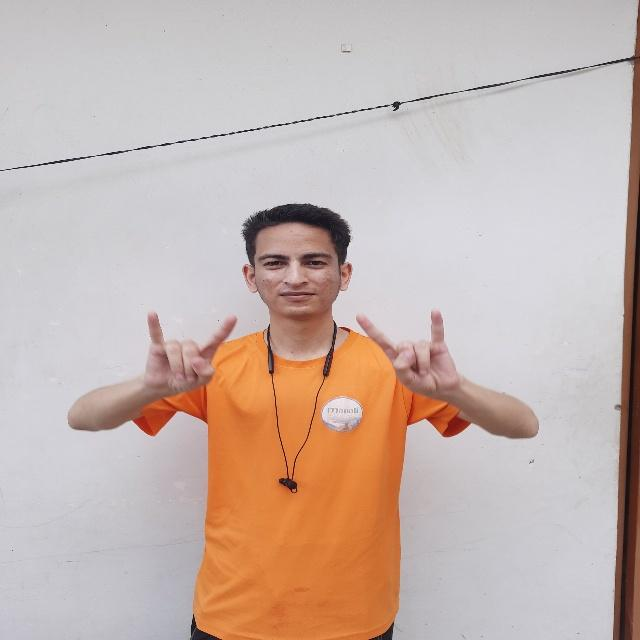Corna: (352, 307, 471, 406), (132, 302, 244, 406)
